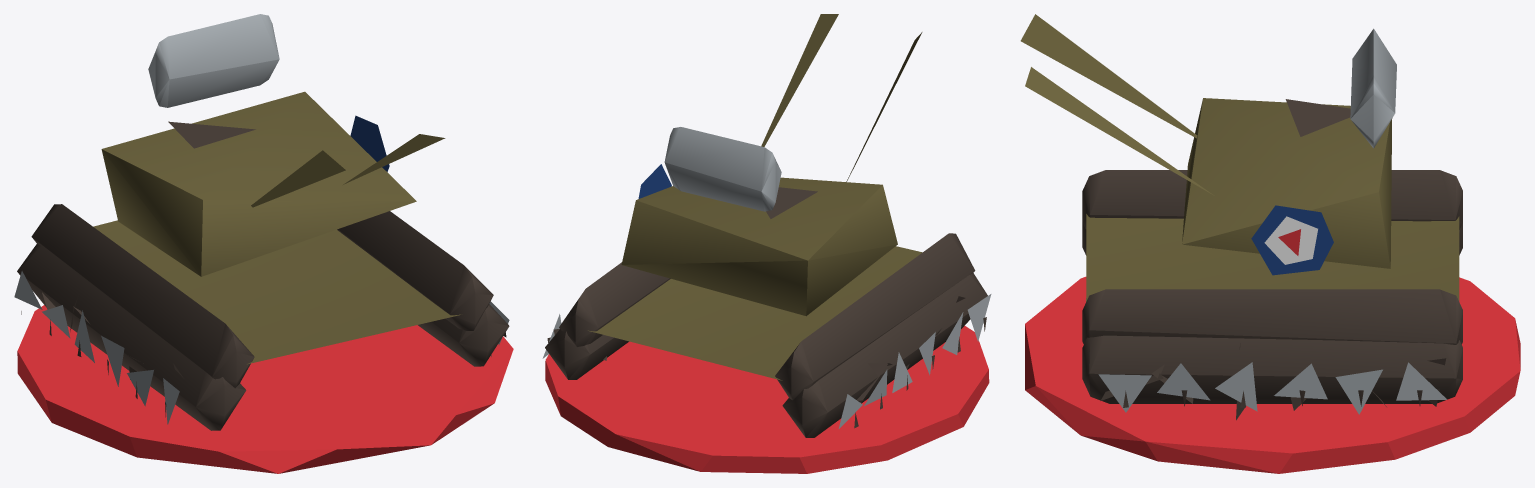
The model's file is united_kingdom_anti_aircraft_lod1.glb.
3 views of the same model, side by side, from view 1: azimuth 30°, elevation 25°; view 2: azimuth 150°, elevation 25°; view 3: azimuth 270°, elevation 25° (orthographic). The views are drawn at different scales.
Visible parts, largest first — view 1: body_hull, base_pedestal; view 2: body_hull, base_pedestal; view 3: body_hull, base_pedestal.
Boxes of the visible parts, left/top/right/bottom form: body_hull: left=14, top=14, right=509, bottom=430; base_pedestal: left=17, top=305, right=513, bottom=473; body_hull: left=542, top=14, right=991, bottom=437; base_pedestal: left=545, top=325, right=989, bottom=473; body_hull: left=1020, top=14, right=1462, bottom=420; base_pedestal: left=1025, top=276, right=1520, bottom=473.
Size of the model in its own units: 0.7857 by 0.5542 by 0.7739.
